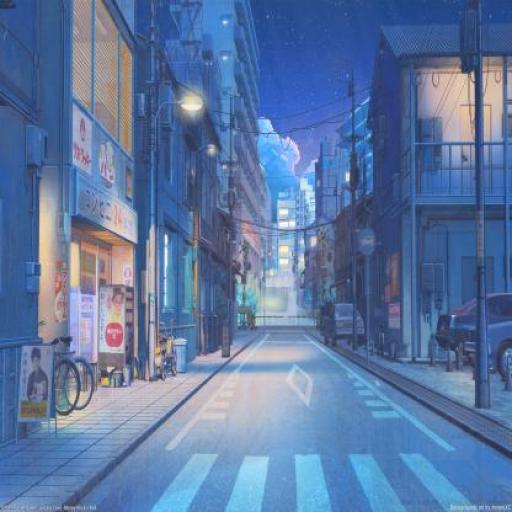street light: (155, 97, 203, 376), (196, 145, 215, 358)
